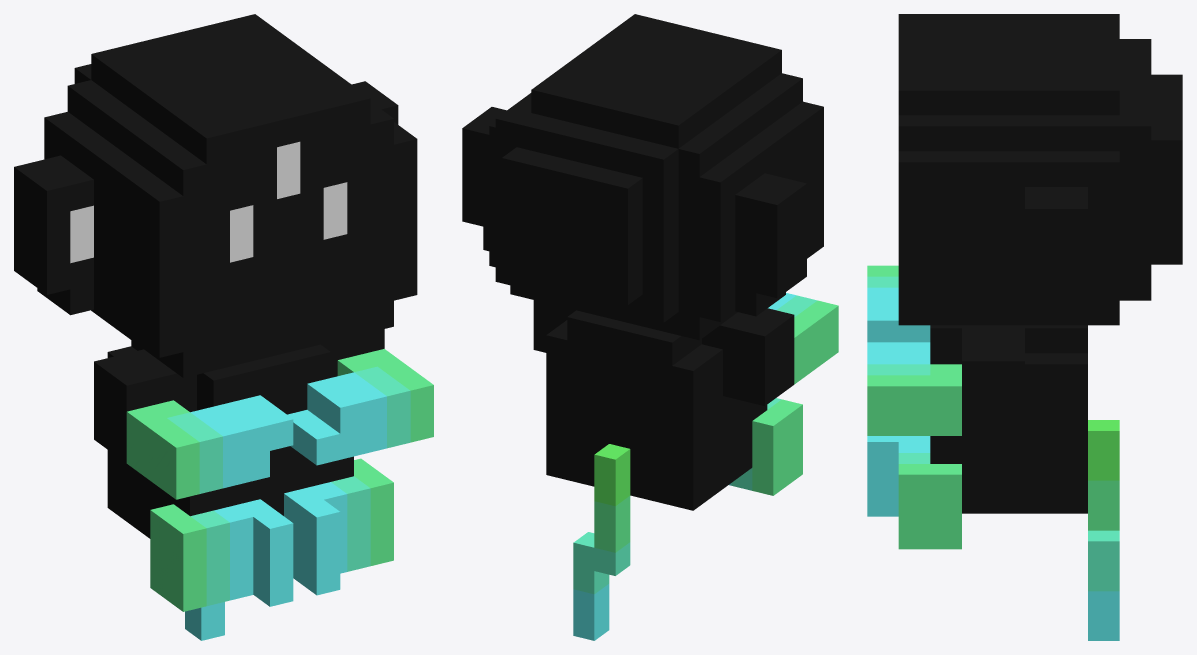
File: CharacterBlue.FBX
3 views of the same model, side by side, from view 1: azimuth 30°, elevation 25°; view 2: azimuth 150°, elevation 25°; view 3: azimuth 270°, elevation 25° (orthographic). The views are drawn at different scales.
Visible parts, largest first — view 1: CharacterBlue; view 2: CharacterBlue; view 3: CharacterBlue.
Boxes of the visible parts, x1,y1,x2,y2 form: CharacterBlue: [14, 14, 433, 640]; CharacterBlue: [462, 14, 838, 640]; CharacterBlue: [867, 14, 1182, 640].
Bounding box in the file's own units: 0.8 × 1.3 × 0.65.
1 material, 1 textured.
